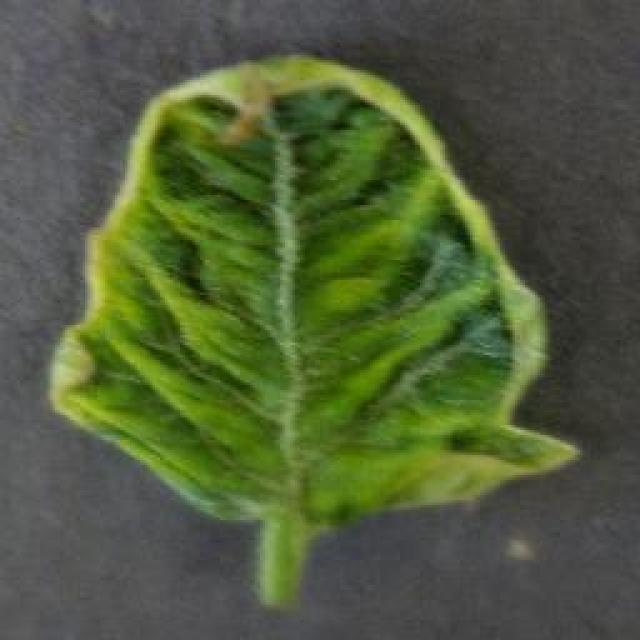Tomato yellow virus leaf: (44, 55, 582, 532)
